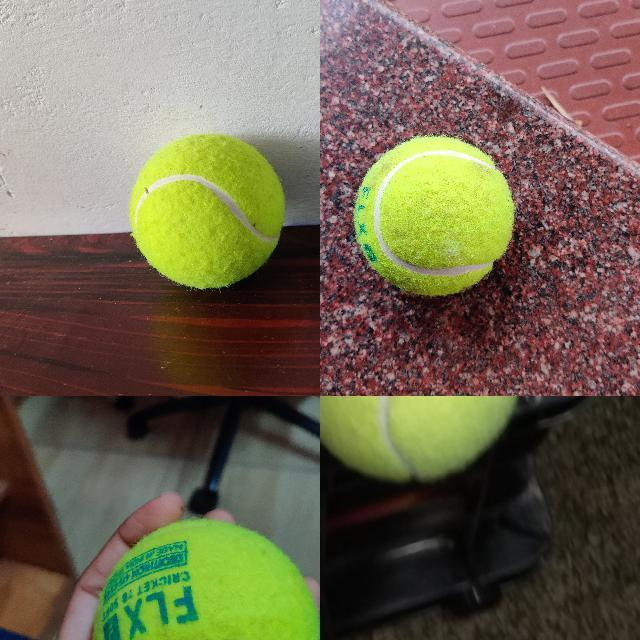tennis-ball: (93, 519, 319, 639), (355, 137, 513, 296), (129, 133, 286, 289), (320, 396, 524, 484)
